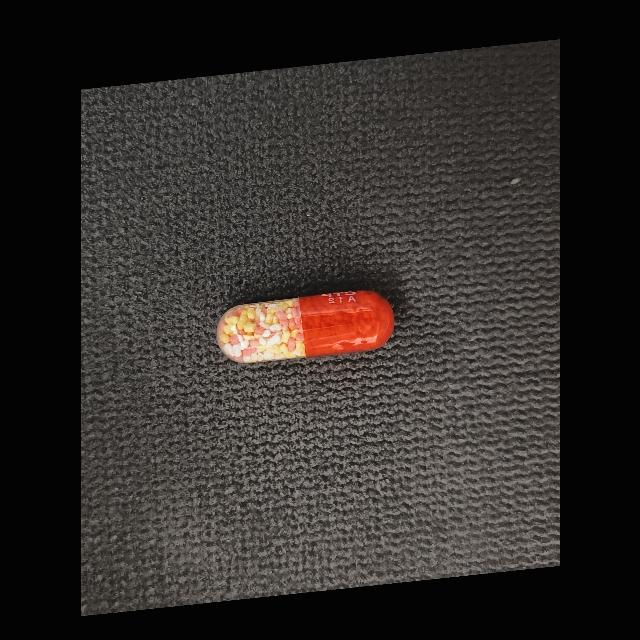Intact Capsule: (216, 290, 394, 363)
